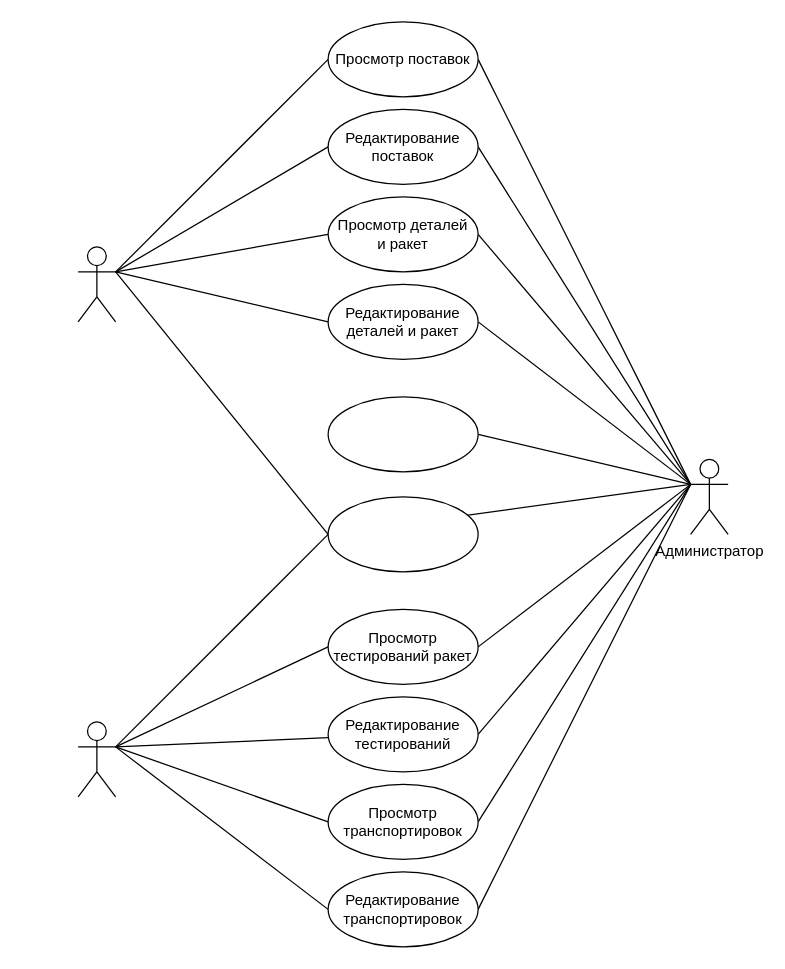
This 785x969 diagram has some shape labels left out. The centre of each missing label's shape, as x and y in pixels:
Авторизация: (x=402, y=534)
Инженер-испытатель: (x=96, y=759)
Инженер-конструктор: (x=96, y=284)
Просмотр сотрудников: (x=402, y=434)
